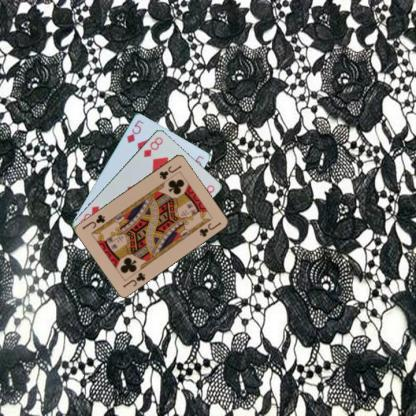5d: (124, 117, 145, 144)
8d: (141, 134, 164, 158)
Jc: (120, 269, 147, 289), (156, 162, 182, 181)
